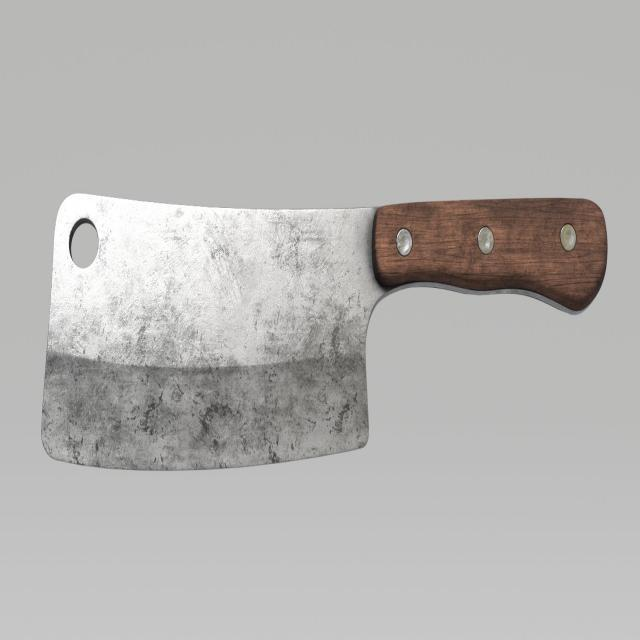cleaver: (44, 186, 610, 474)
